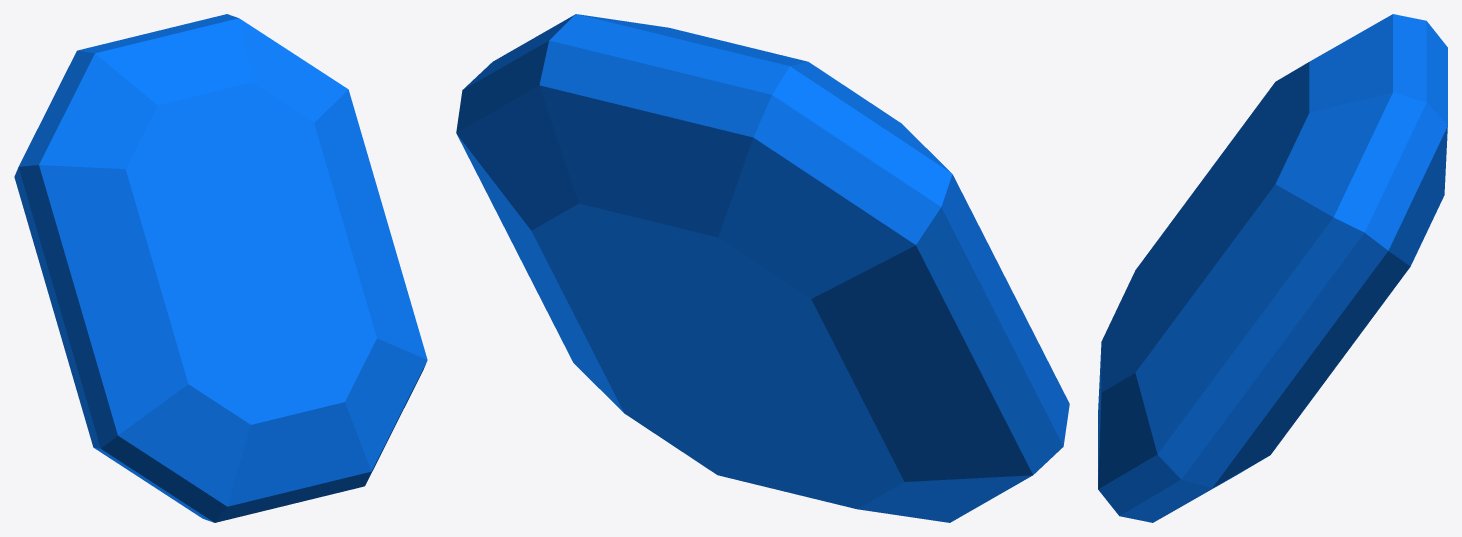
File: XXX.fbx
The picture shows the model from 3 angles, left to right: view 1: azimuth 30°, elevation 25°; view 2: azimuth 150°, elevation 25°; view 3: azimuth 270°, elevation 25°; orthographic projection. The views are drawn at different scales.
Visible parts, largest first — view 1: XXX; view 2: XXX; view 3: XXX.
Part boxes in pixels (x1,y1,x2,y2): XXX: (14, 14, 427, 522); XXX: (456, 14, 1069, 522); XXX: (1098, 14, 1447, 522).
Bounding box in the file's own units: 112 × 129 × 94.78.
